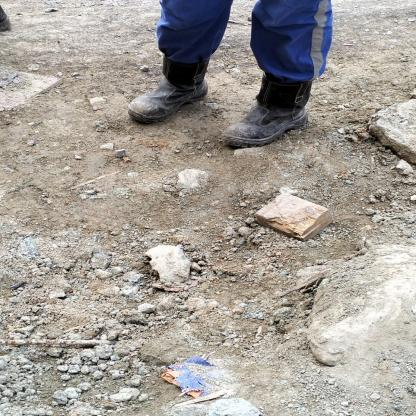bota: (219, 76, 318, 149), (124, 56, 213, 121)
